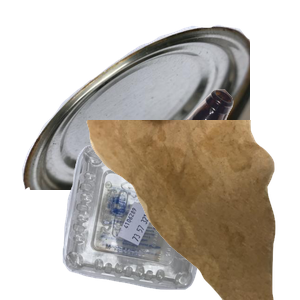glass: (130, 87, 300, 267)
metal: (19, 22, 259, 202)
plastic: (60, 141, 263, 300)
trash: (84, 120, 300, 300)
